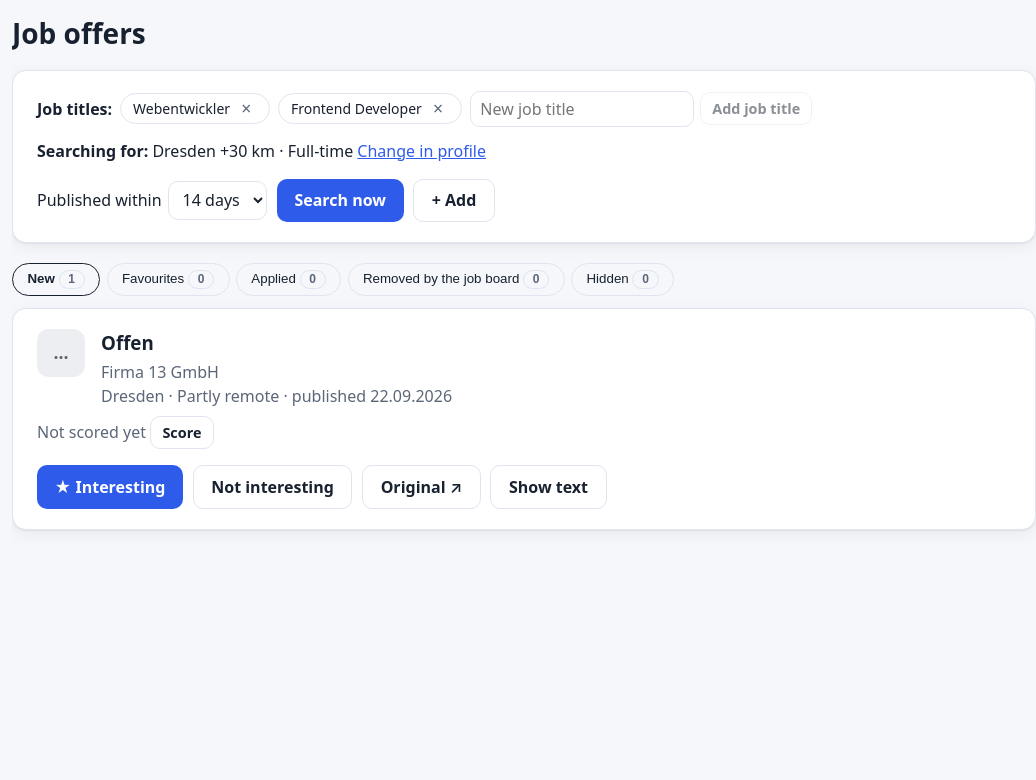
Test case: VacancyList › "Score" for a card that was not scored
Expected: the heading "Offen" is shown, [101,330,154,355]
Expected: the text "Not scored yet" is shown, [37,421,146,443]
Click the button "Score": (182, 432) [150,416,214,449]
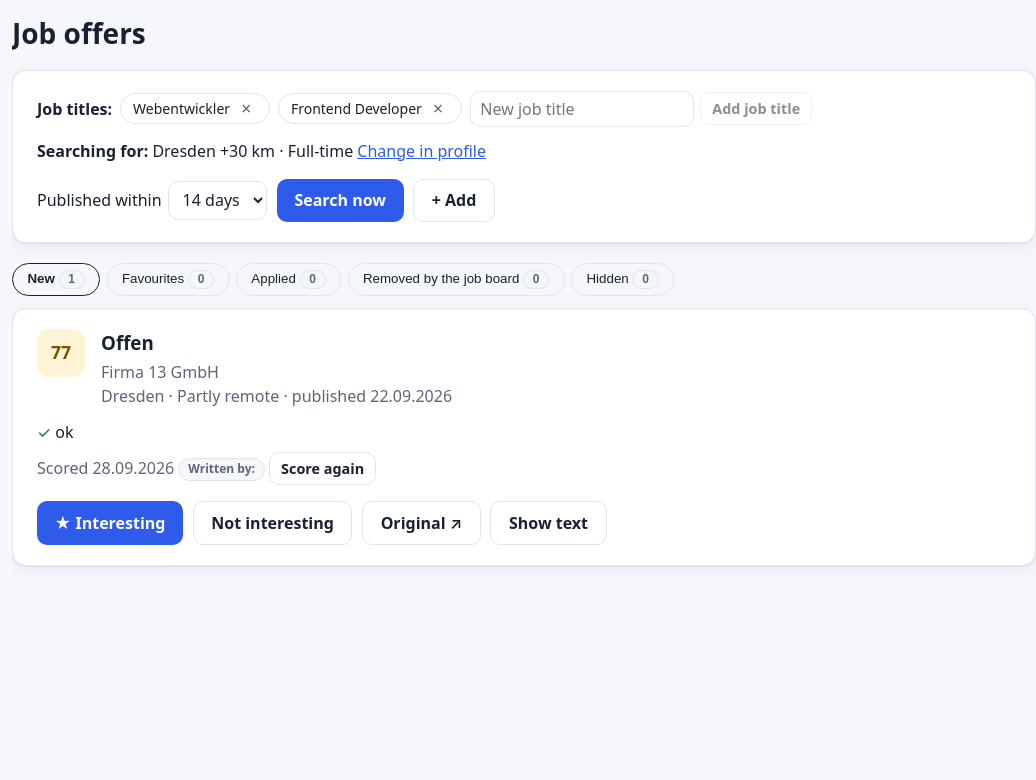
Result: the text "77" is shown at [37,329,85,377]
